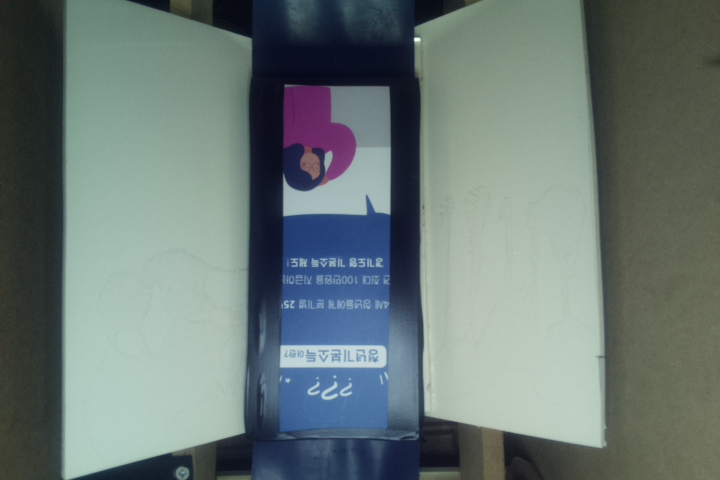book: (243, 75, 423, 442)
